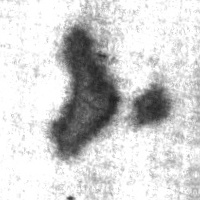patches: (49, 24, 126, 164), (130, 82, 175, 126)
